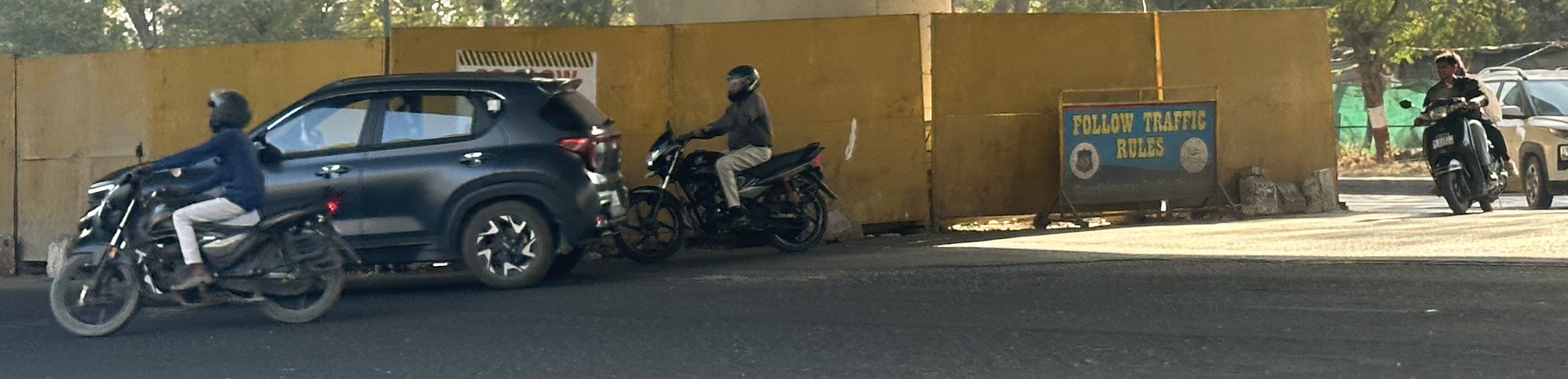BikeWithRider: (32, 79, 378, 342), (607, 50, 852, 268), (1400, 39, 1516, 221)
Helmet: (199, 87, 260, 136), (719, 60, 764, 105)
NoHelmet: (1431, 50, 1461, 83)
